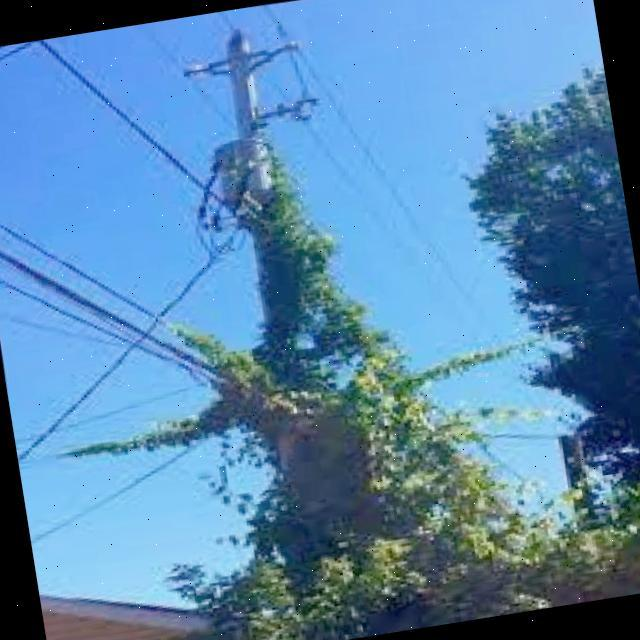critical vegetation: (183, 136, 547, 640)
